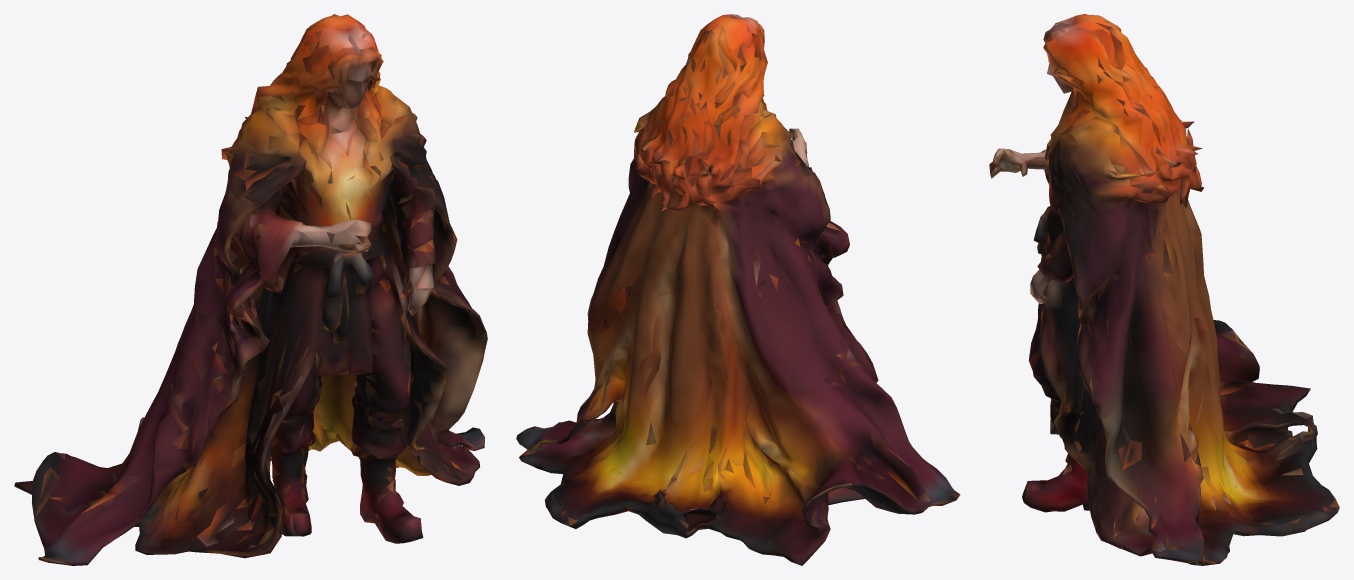
File: Demul (3)_final.glb
The picture shows the model from 3 angles, left to right: view 1: azimuth 30°, elevation 25°; view 2: azimuth 150°, elevation 25°; view 3: azimuth 270°, elevation 25°; orthographic projection. The views are drawn at different scales.
Parts seen in each view (by area): view 1: Mesh1.0; view 2: Mesh1.0; view 3: Mesh1.0.
Boxes of the visible parts, x1,y1,x2,y2 form: Mesh1.0: (14,14,487,565); Mesh1.0: (516,14,960,565); Mesh1.0: (989,14,1339,565).
Size of the model in its own units: 1.77 by 1.8 by 1.22.
Materials: 1 (1 with a texture image).
